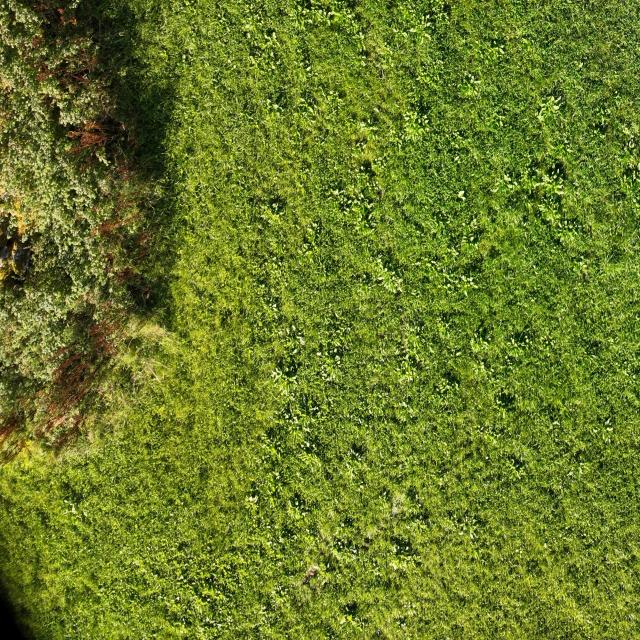rumex: (420, 250, 489, 305), (254, 284, 305, 357), (329, 183, 386, 238), (501, 161, 574, 199), (364, 386, 422, 430), (294, 1, 364, 37), (193, 564, 239, 616), (329, 526, 377, 574), (312, 83, 353, 136), (281, 402, 331, 443), (546, 207, 590, 250), (245, 29, 285, 76), (561, 450, 603, 492), (310, 344, 348, 389), (370, 250, 404, 299), (504, 336, 553, 370), (380, 546, 429, 579), (397, 341, 430, 388), (254, 192, 295, 228), (536, 84, 568, 128), (415, 60, 450, 95), (403, 105, 432, 146), (270, 361, 301, 396), (468, 329, 499, 364), (500, 451, 535, 482), (588, 409, 616, 447), (456, 513, 489, 544), (617, 159, 640, 203), (407, 9, 439, 39), (430, 374, 462, 401), (463, 70, 486, 105), (493, 391, 523, 417), (259, 94, 289, 120), (344, 447, 368, 477), (459, 218, 484, 244), (244, 484, 262, 520), (569, 253, 597, 276), (288, 498, 308, 527), (264, 467, 284, 492)
